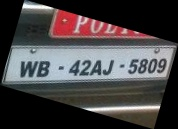character: (19, 60, 38, 77), (36, 60, 49, 77), (78, 59, 91, 75), (89, 59, 102, 75), (101, 58, 114, 74), (68, 59, 80, 76), (127, 58, 138, 74), (137, 58, 148, 74), (156, 57, 166, 73), (147, 58, 157, 73)
